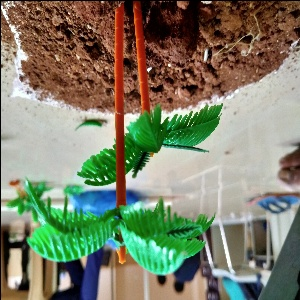plant: (14, 180, 227, 285), (76, 94, 224, 182)
